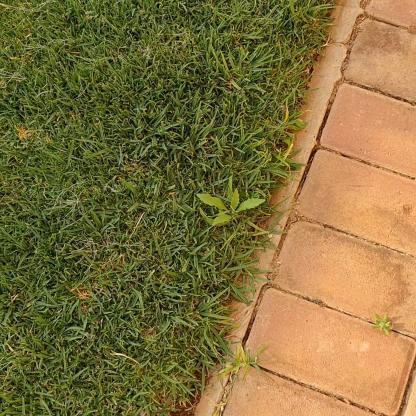Weeds: (196, 188, 266, 226)
